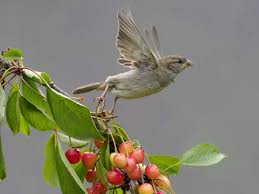hsparrow: (70, 7, 198, 125)
